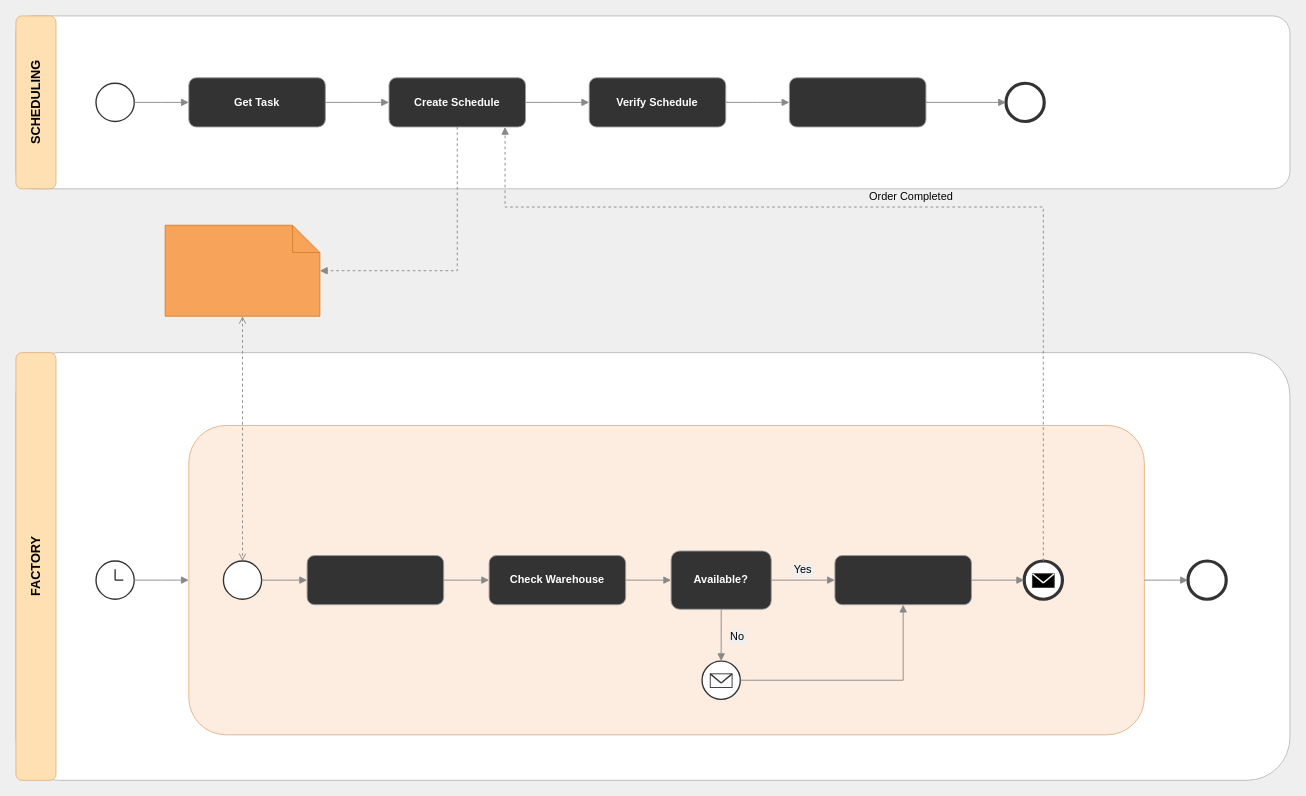
The diagram is 1306 pixels wide and 796 high, and some of its shapes have lost their labels. Each missing label, with the box of its shape:
Commit Schedule: (789, 77, 926, 127)
Compose Specification: (306, 555, 444, 605)
Order List: (164, 224, 320, 316)
Produce Goods: (834, 555, 971, 605)
